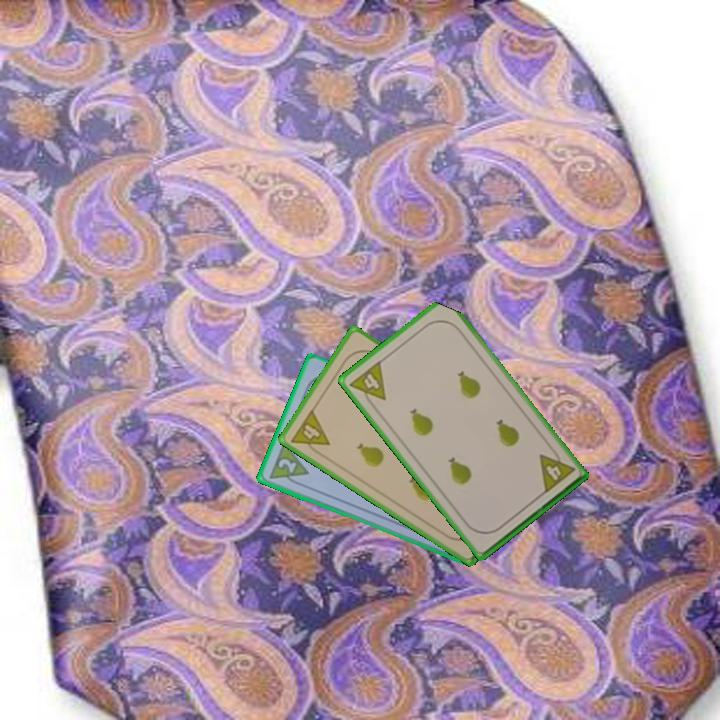2p: (265, 439, 311, 490)
4p: (287, 406, 333, 459), (346, 357, 389, 411), (535, 444, 577, 496)
